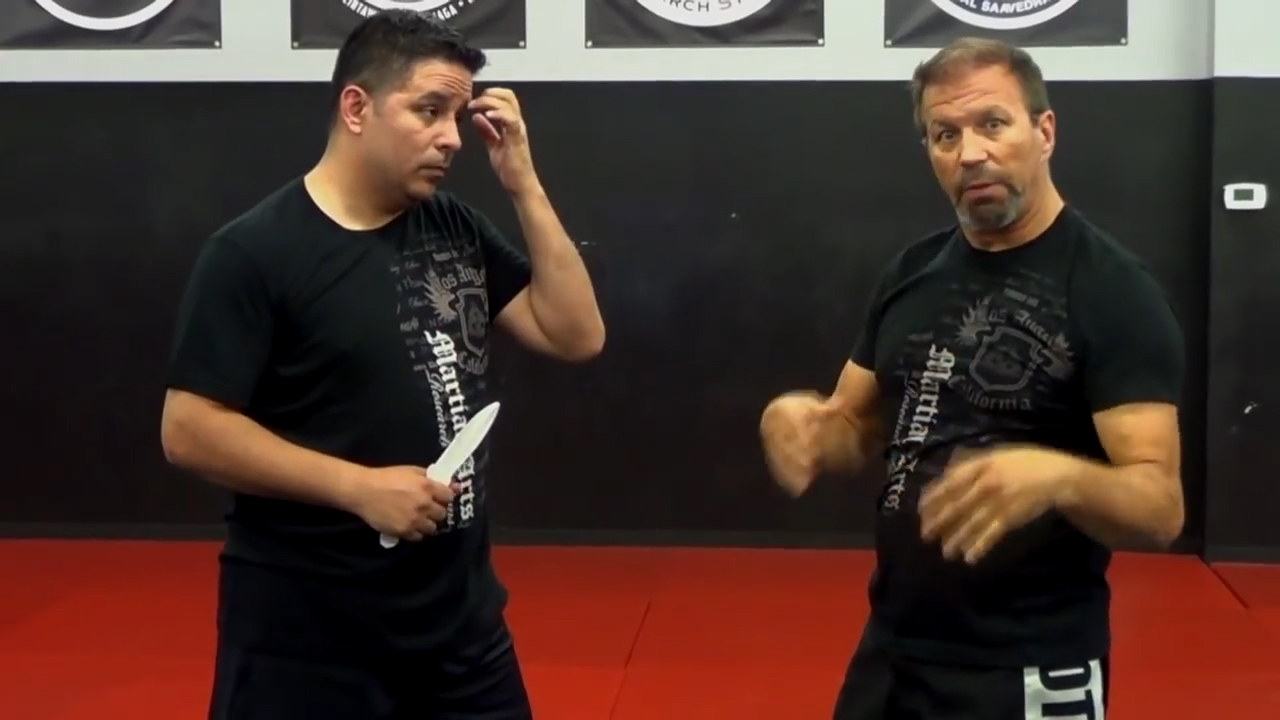knife: (366, 390, 512, 561)
